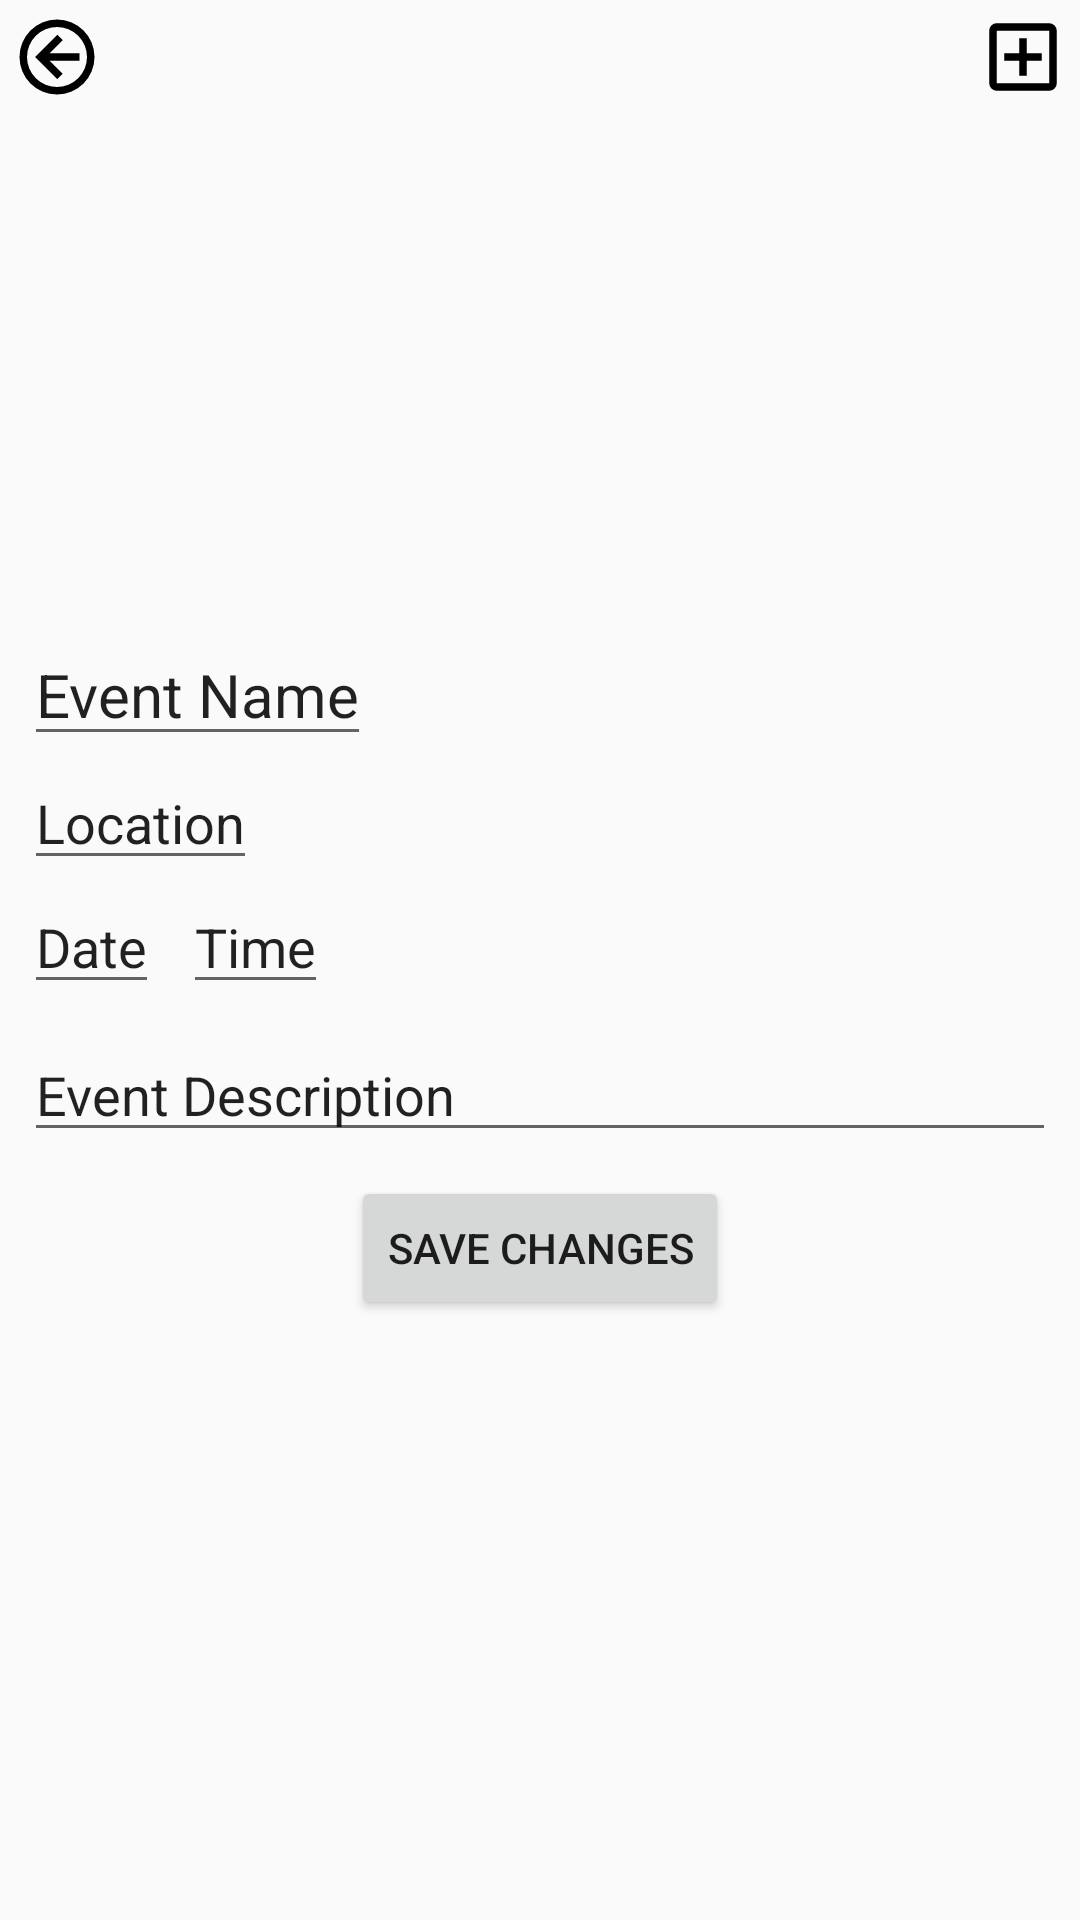

Named icons in this screenshot (1080px×1920px) and their bounding boxes, (x1, y1, x2, y2):
arrow left circle: (19, 19, 95, 95)
plus box: (989, 23, 1057, 91)
